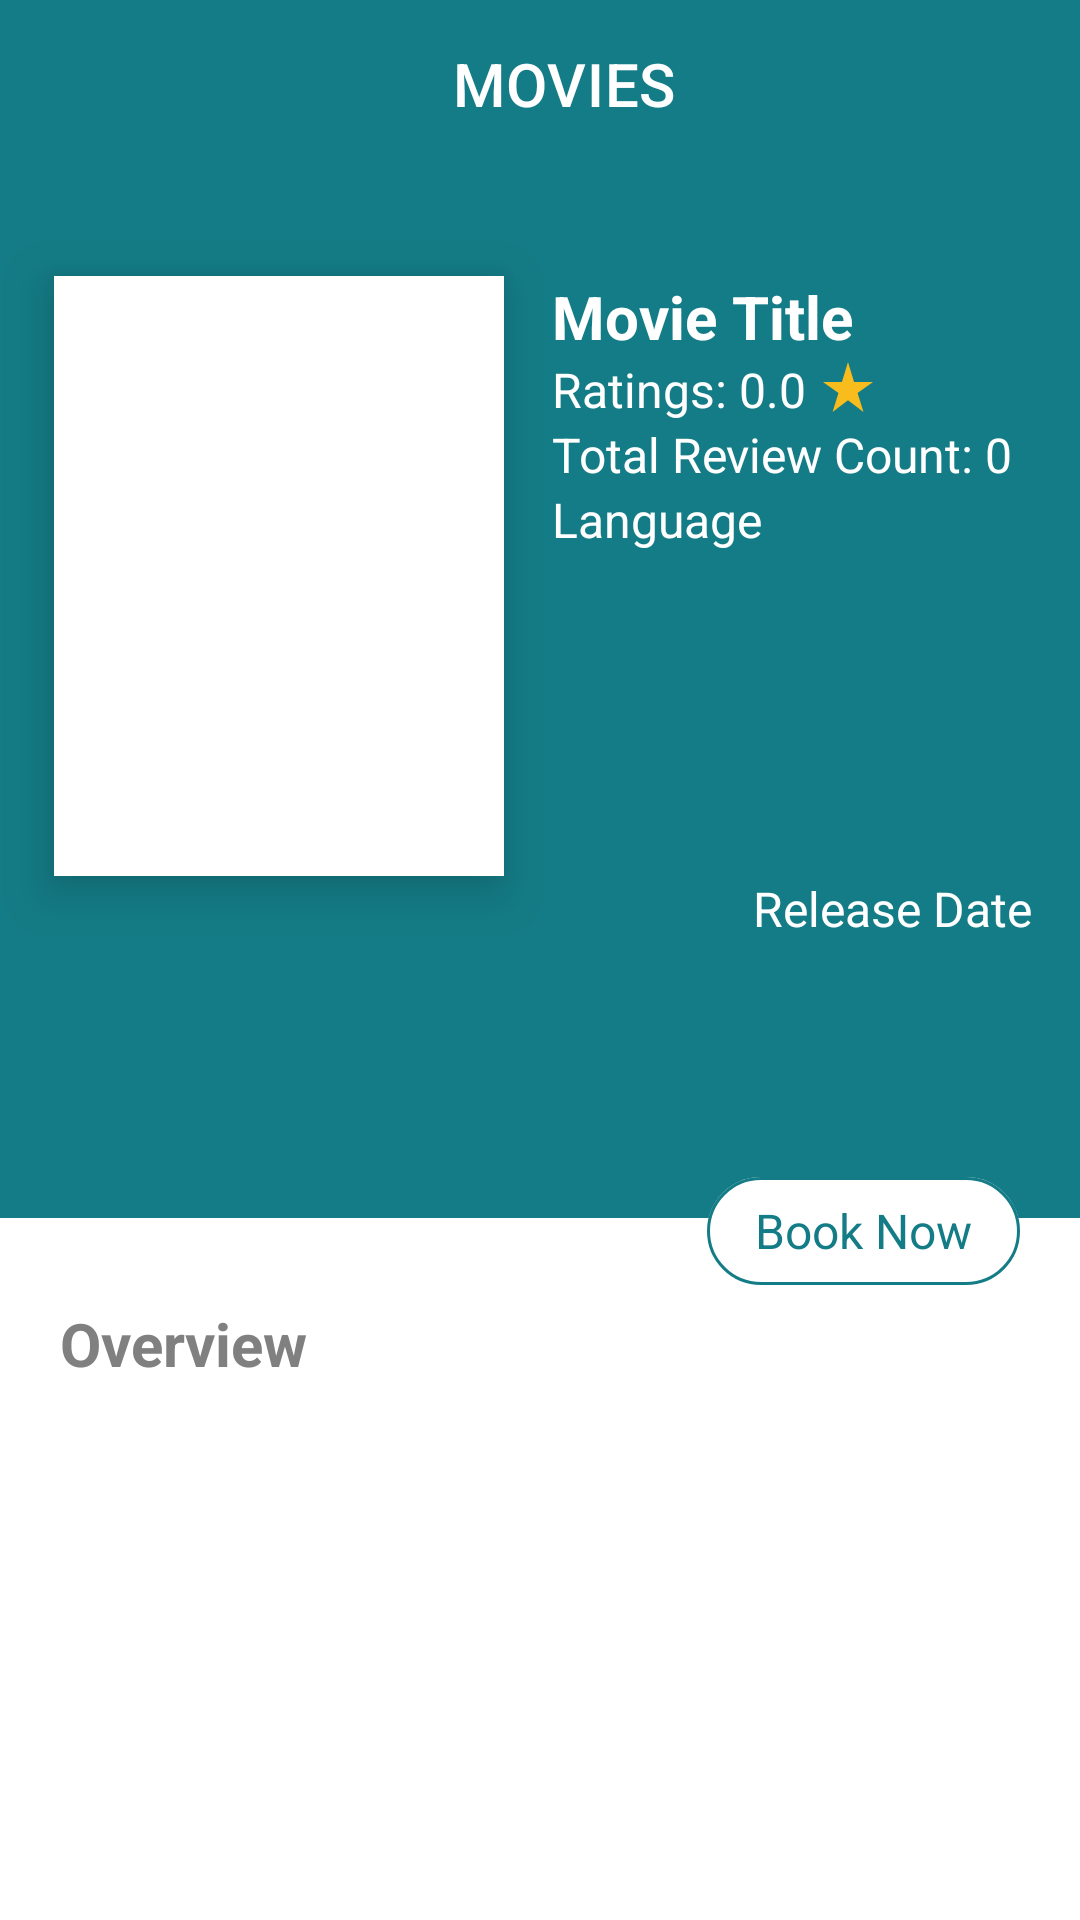

Icons on this 1080 × 1920 Android screen, each with the point to tap as (x,y):
star rate: (848,387)
